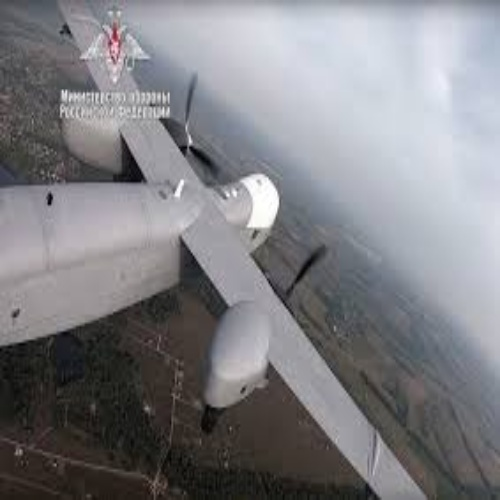uav: (4, 4, 427, 500)
